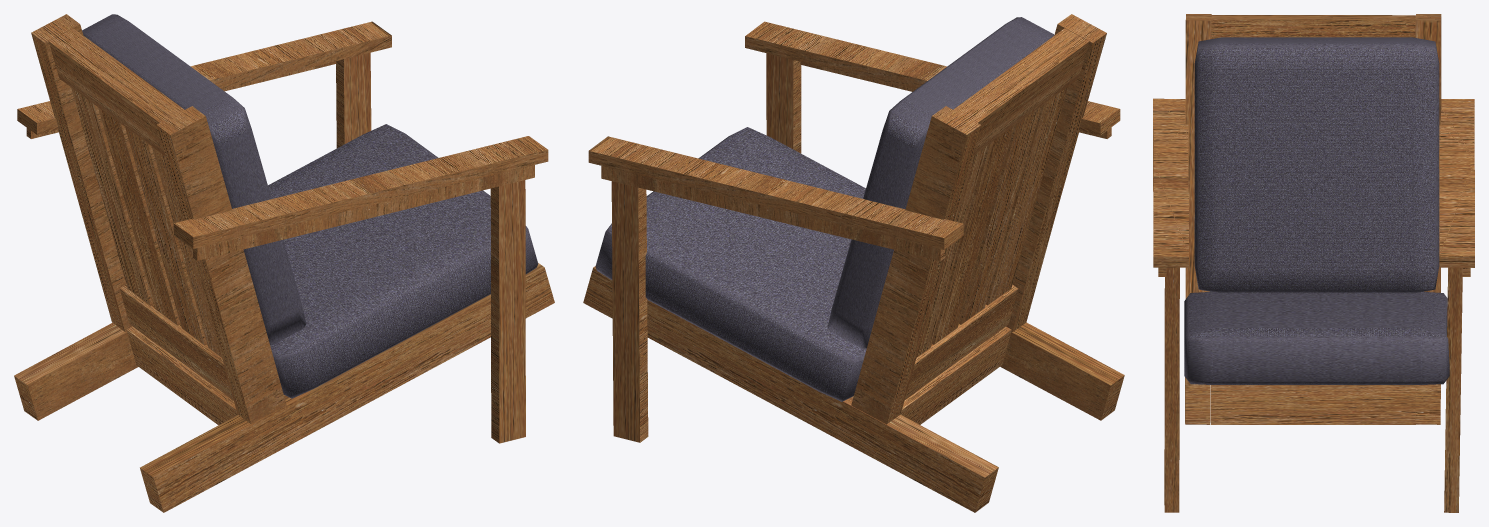
The model's file is Cushion Lawn Chair.fbx.
3 renders of one model, left to right at view 1: azimuth 30°, elevation 25°; view 2: azimuth 150°, elevation 25°; view 3: azimuth 270°, elevation 25°, orthographic. The views are drawn at different scales.
Visible parts, largest first — view 1: Chair, Cushion; view 2: Chair, Cushion; view 3: Cushion, Chair.
Boxes of the visible parts, x1,y1,x2,y2 form: Chair: (14, 14, 554, 512); Cushion: (82, 14, 538, 398); Chair: (583, 14, 1124, 512); Cushion: (595, 17, 1054, 401); Cushion: (1184, 37, 1449, 384); Chair: (1153, 14, 1474, 512).
Size of the model in its own units: 136 by 125 by 103.
Materials: 2 (2 with a texture image).
